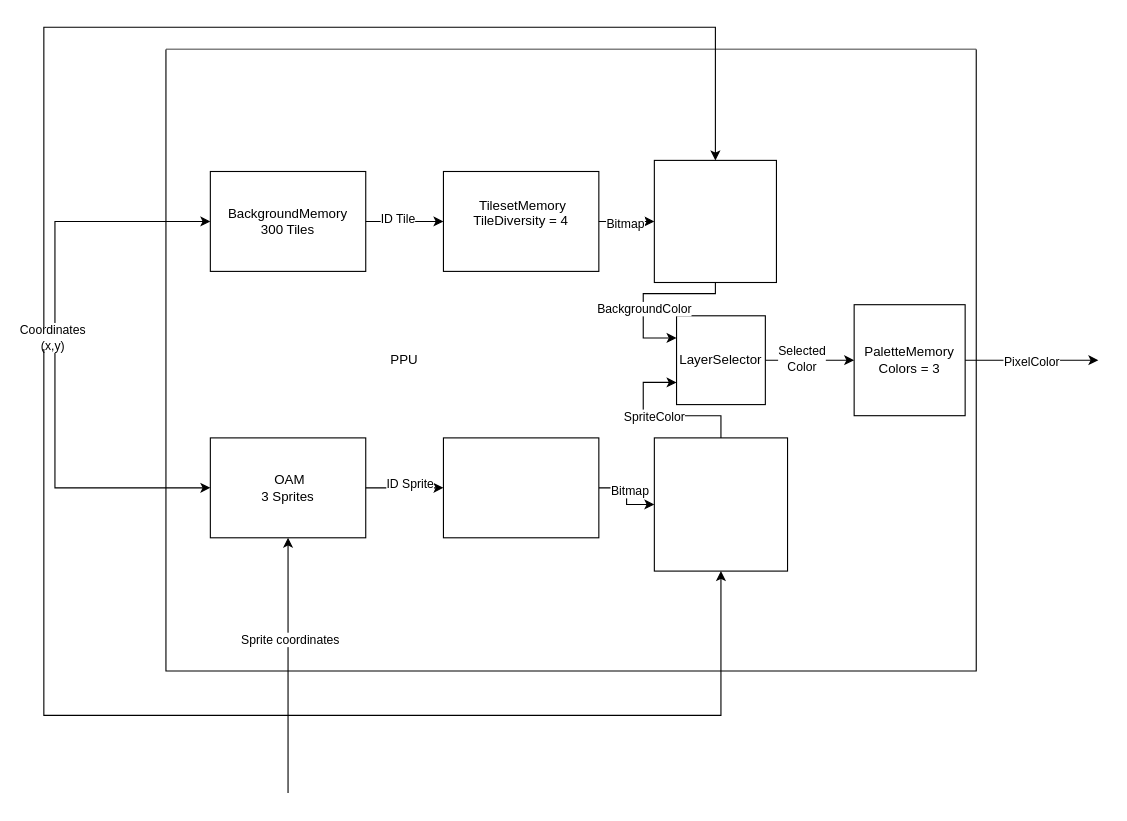
The diagram is 1127 pixels wide and 821 high, and some of its shapes have lost their labels. The shapes that lost their labels are listed below. From the top down, each one's box as (x1, y1, x2, y2) in pixels, then its label:
(653, 159, 776, 282): Extrator: PixelInterceptor TlleSize = 32x32
(442, 437, 599, 538): SpriteMemory SpriteDIversity = 2
(653, 437, 788, 571): Extrator: PixelInterceptor SpriteSize = 32x32
